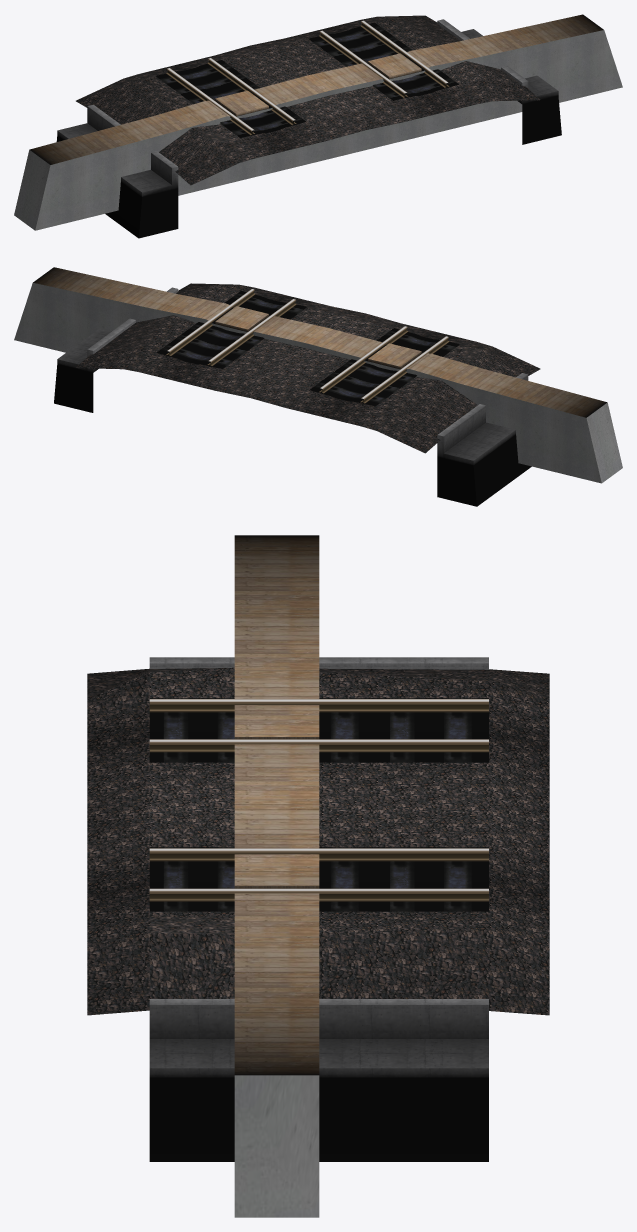
Rendered from MEI_2RAIL_HUMIKIRI12_5_WOOD.glb.
3 renders of one model, top to bottom at view 1: azimuth 30°, elevation 25°; view 2: azimuth 150°, elevation 25°; view 3: azimuth 270°, elevation 25°, orthographic. The views are drawn at different scales.
Parts seen in each view (by area): view 1: obj6, obj3; view 2: obj6, obj3; view 3: obj6, obj3.
Boxes of the visible parts, bbox=[...] form: obj6: bbox=[56, 15, 561, 238]; obj3: bbox=[14, 14, 622, 230]; obj6: bbox=[54, 283, 540, 506]; obj3: bbox=[14, 267, 622, 483]; obj6: bbox=[87, 657, 549, 1161]; obj3: bbox=[234, 535, 319, 1217].
Bounding box in the file's own units: 50 × 6.54 × 17.03.
7 materials, 6 textured.
